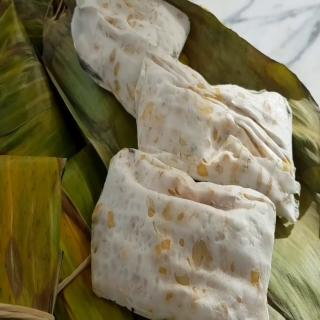Tempe: (91, 148, 278, 320), (135, 47, 302, 225), (72, 1, 192, 119)
